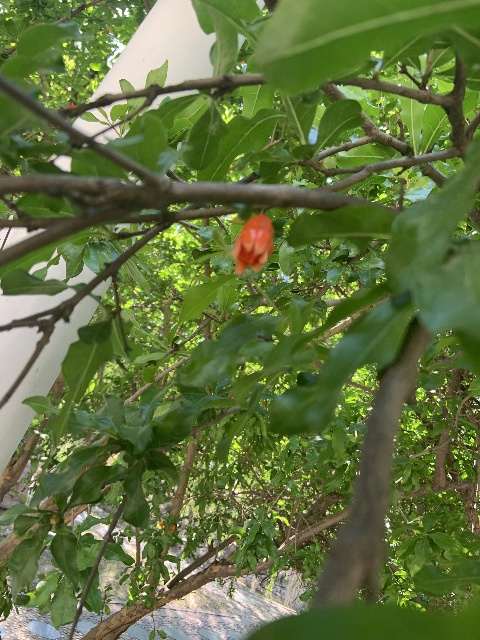flower: (229, 214, 274, 274)
